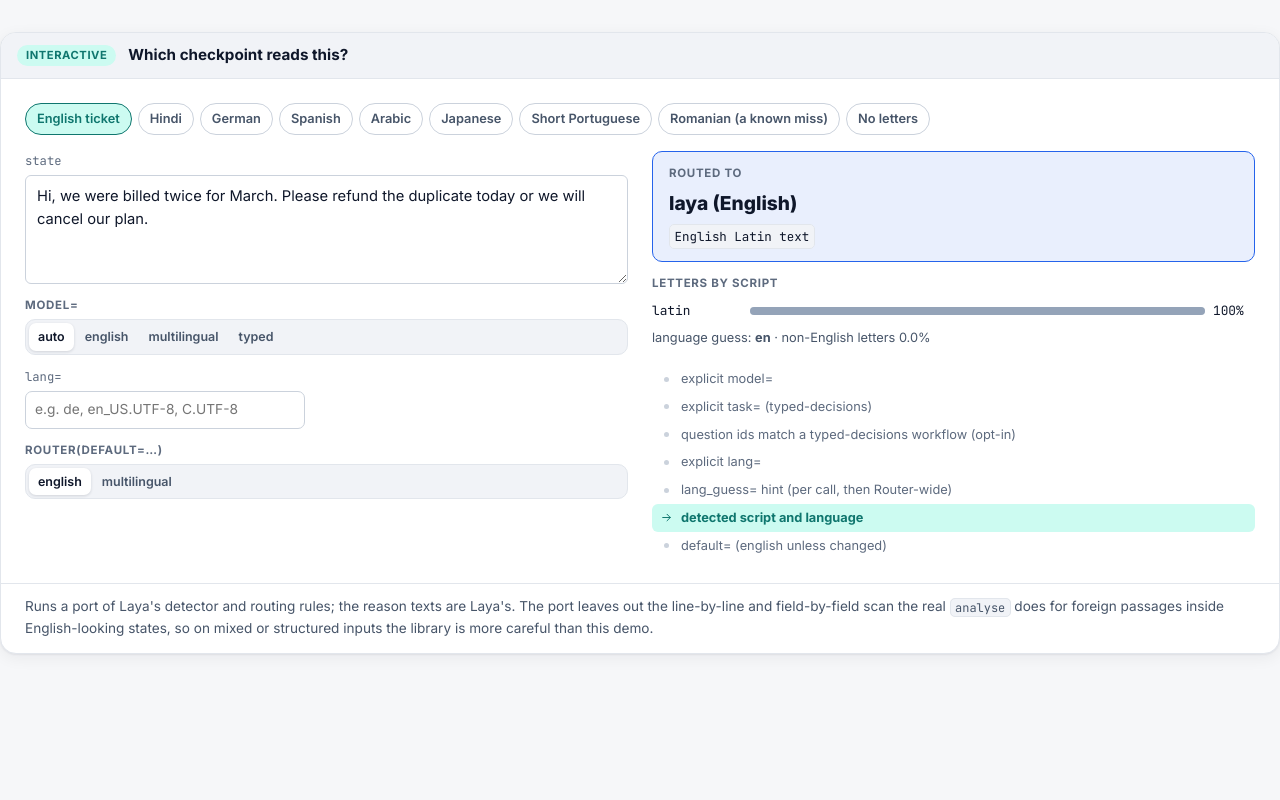
Test: RouterDemo › routes the samples with Laya's reasons
The width and height of the screenshot is (1280, 800).
expect the text "English Latin text" is shown: met, box top-left (669, 224), bottom-right (815, 249)
Click the button "Hindi" at coordinates (166, 119), box top-left (138, 103), bottom-right (194, 135)
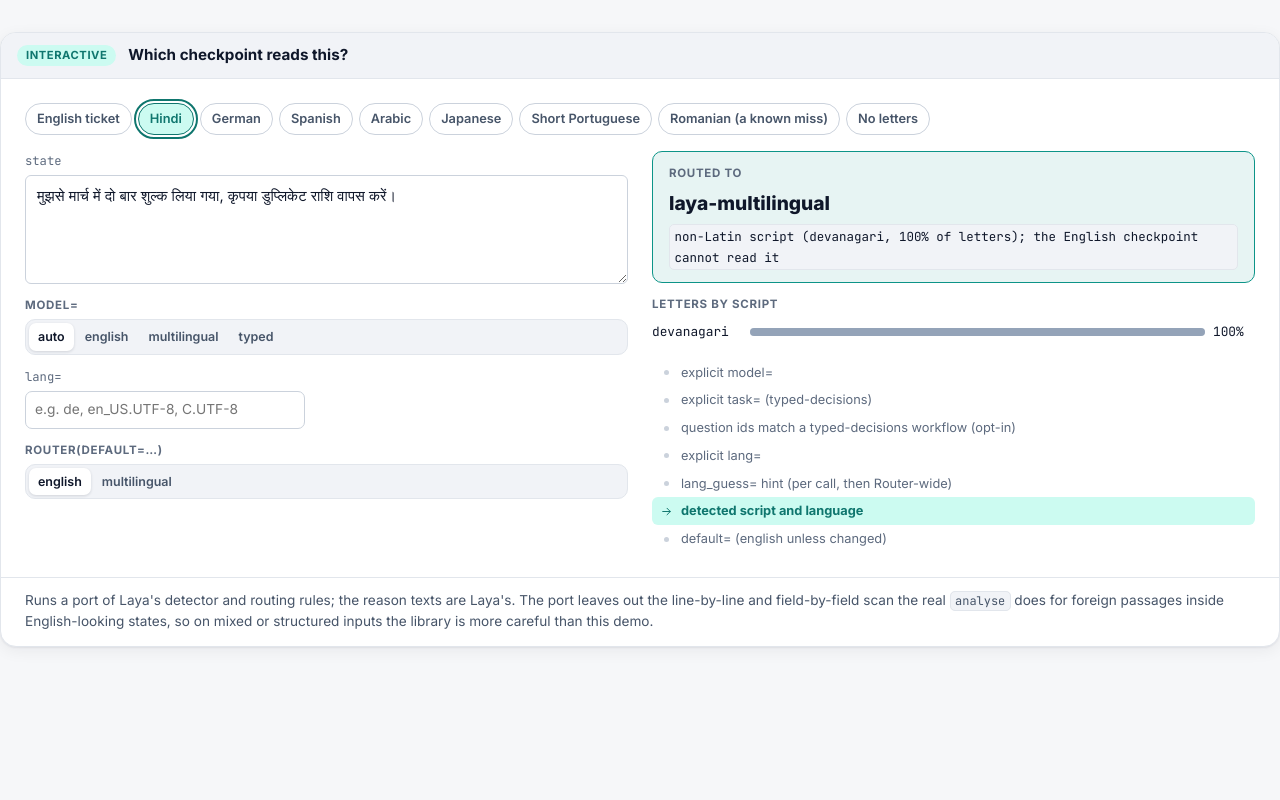
expect the text "laya-multilingual" is shown: met, box top-left (669, 191), bottom-right (830, 215)
expect the text "non-Latin script (devanagari" is shown: met, box top-left (674, 228), bottom-right (1198, 266)
